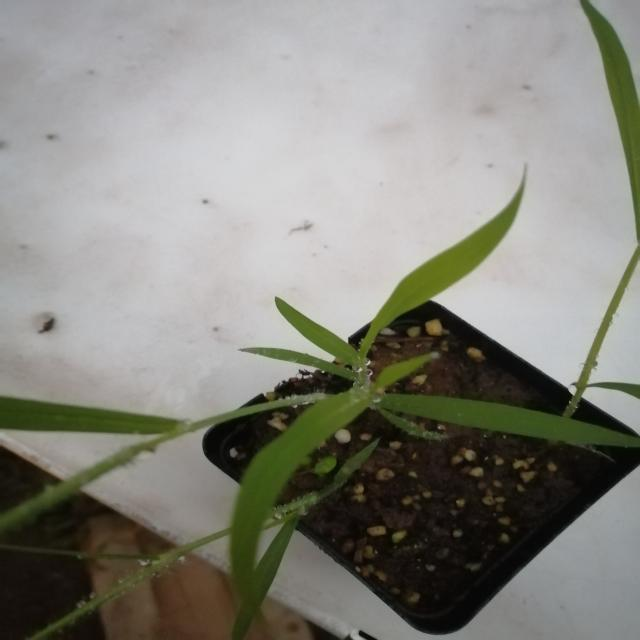crabgrass: (172, 180, 615, 541)
